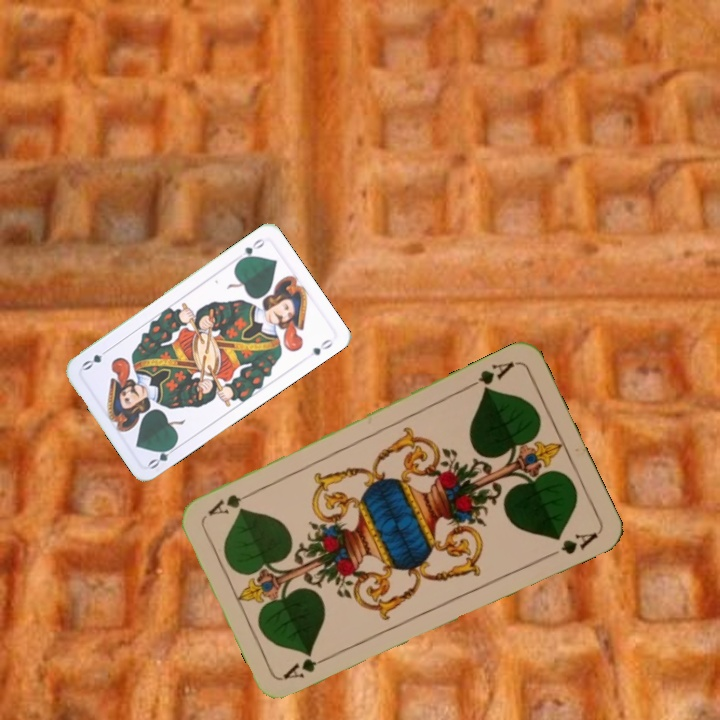GA: (463, 357, 517, 395), (279, 650, 336, 682)
GO: (144, 440, 181, 472), (234, 234, 267, 265)
